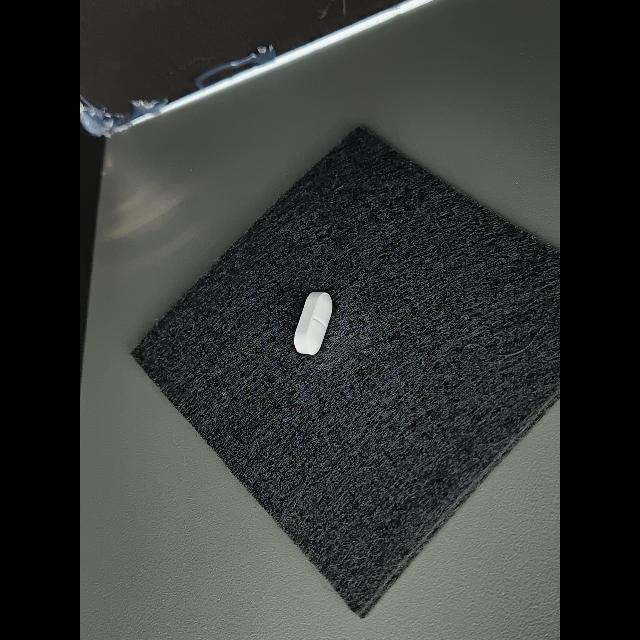Intact Pill: (294, 292, 332, 355)
